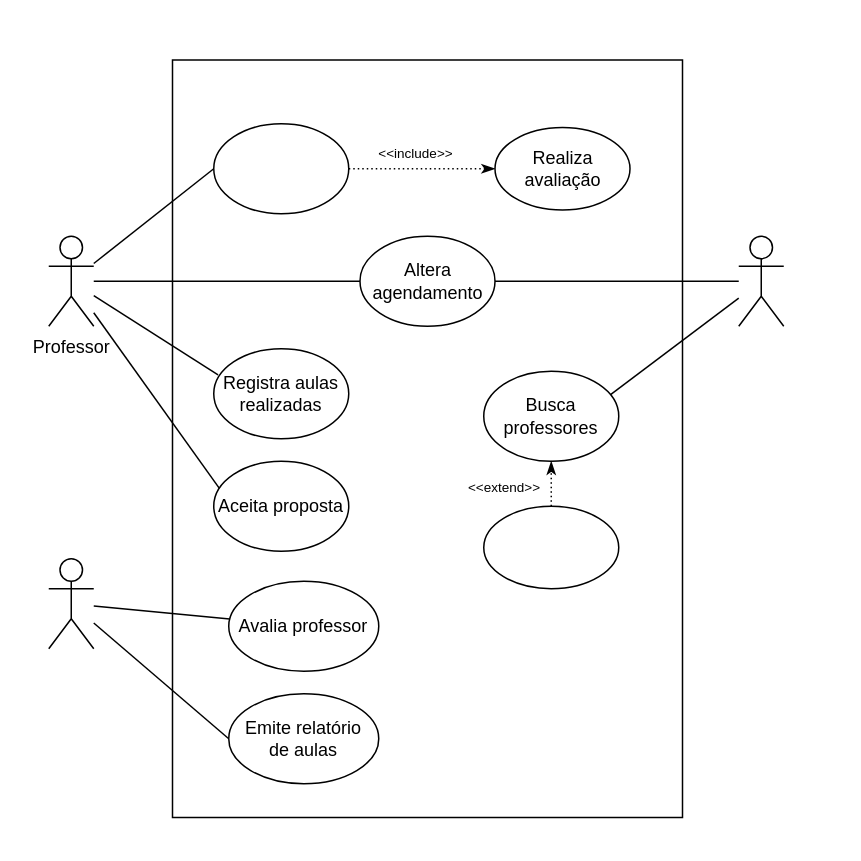
Image size: 861x861. Some labels were removed from this diagram. The shapes that lost their labels are listed below. From the top down, each one's box as (x1, y1, x2, y2) in pixels, then its label:
(212, 122, 349, 214): Cadastra-se no sistema
(737, 235, 784, 326): Aluno
(482, 505, 619, 589): Cria proposta
(47, 557, 94, 649): Gerente
